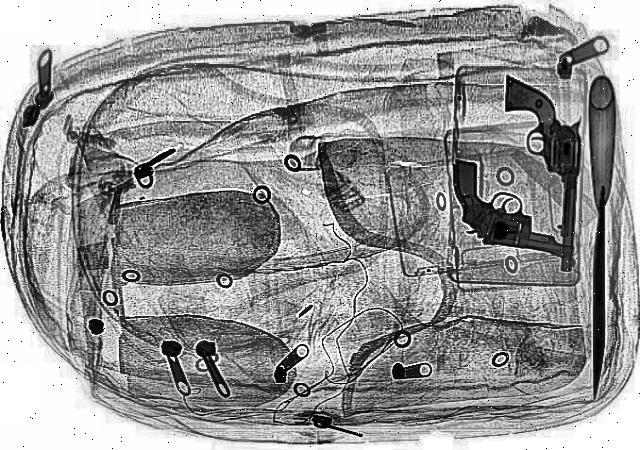Gun: (416, 158, 606, 262), (501, 75, 584, 271)
Knife: (578, 74, 618, 398)
